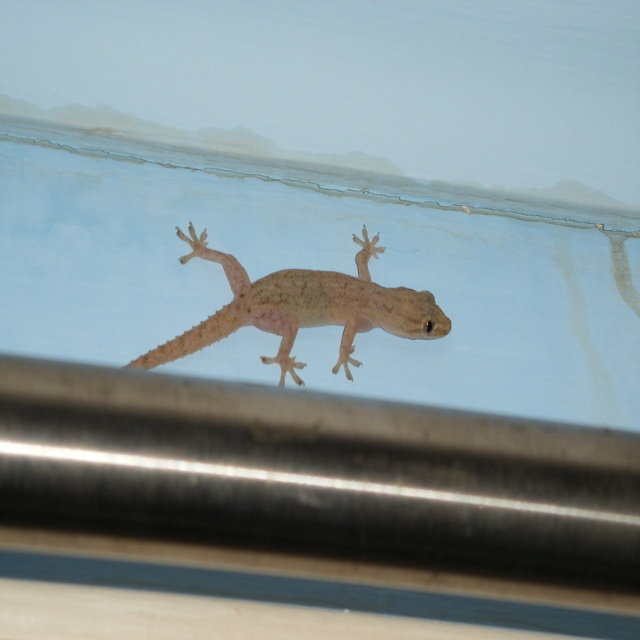Lizard: (124, 223, 450, 386)
